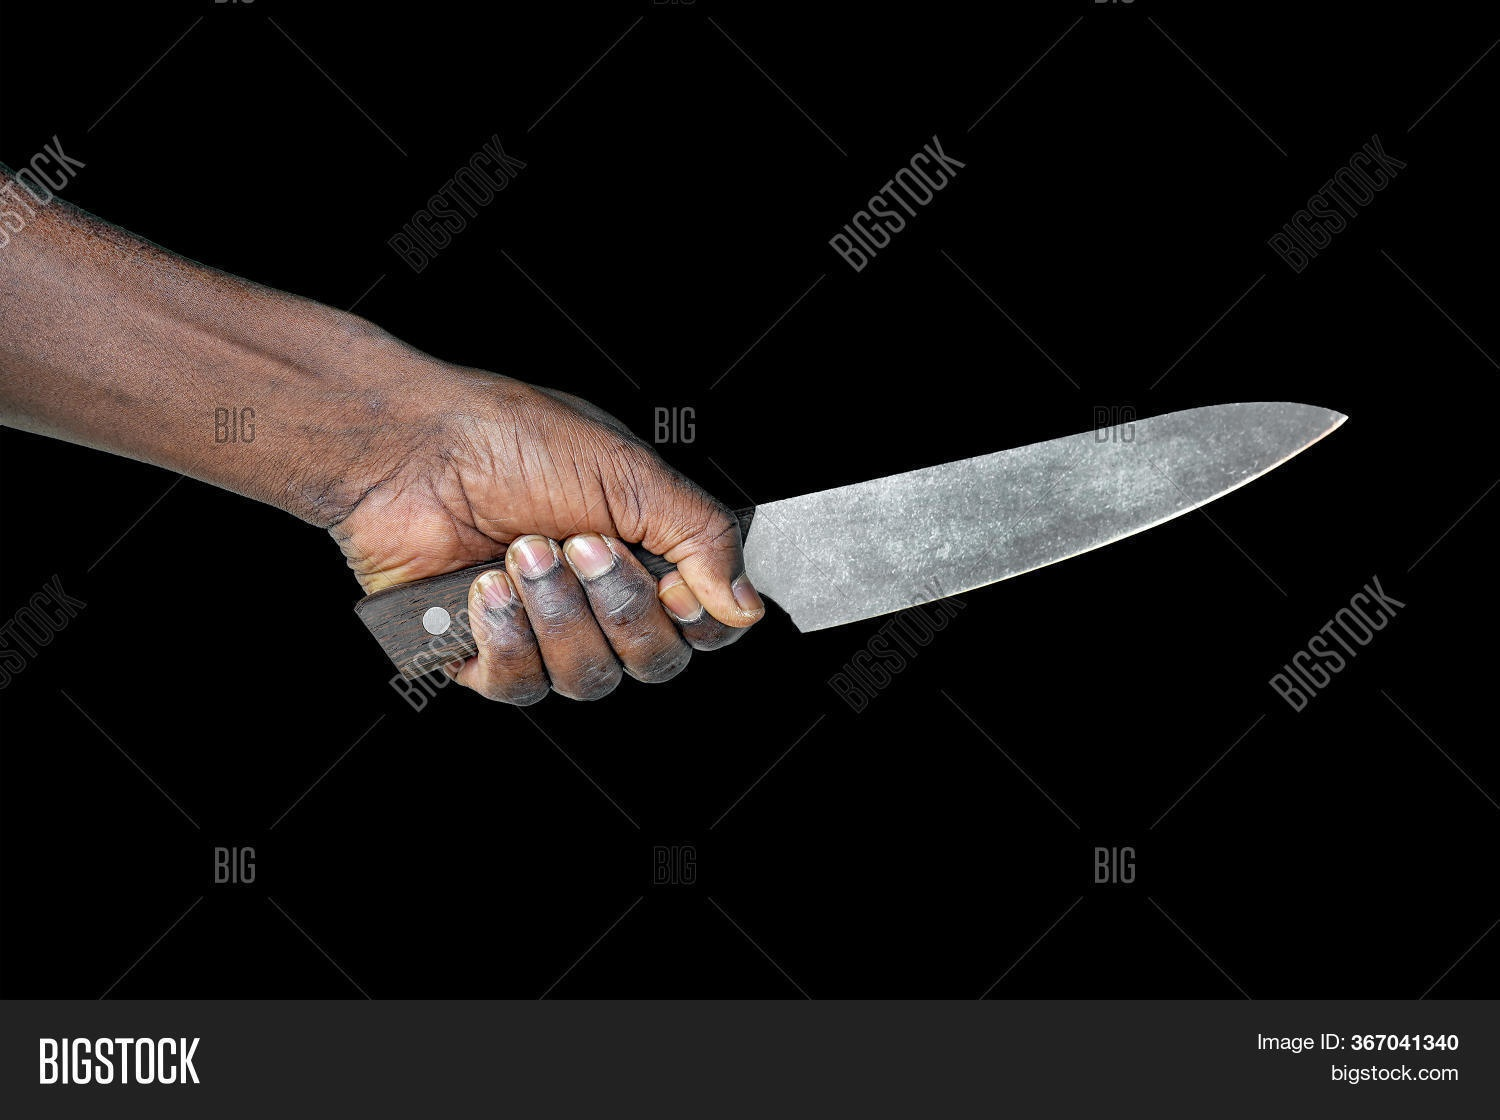knife: (352, 396, 1352, 694)
